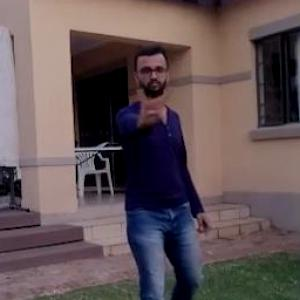takeoff-hand: (128, 80, 177, 133)
